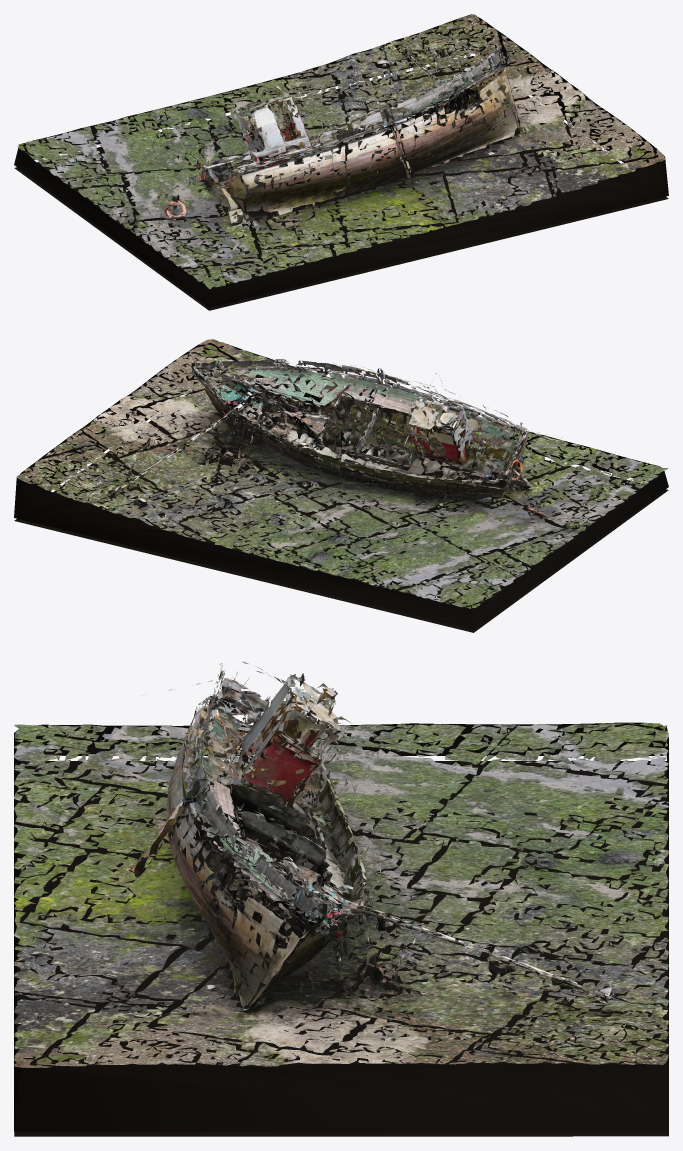
The model's file is boat_wreck.glb.
The picture shows the model from 3 angles, top to bottom: view 1: azimuth 30°, elevation 25°; view 2: azimuth 150°, elevation 25°; view 3: azimuth 270°, elevation 25°; orthographic projection. The views are drawn at different scales.
Visible parts, largest first — view 1: Object_4, Object_6, Object_5, Object_3, Object_7, Object_10, Object_11, Object_8, Object_9, Object_12; view 2: Object_4, Object_3, Object_6, Object_8, Object_10, Object_11, Object_5, Object_9, Object_7, Object_12; view 3: Object_4, Object_3, Object_6, Object_5, Object_10, Object_11, Object_8, Object_9, Object_7, Object_12.
Boxes of the visible parts, box(x1,y1,x2,y2) form: Object_4: box(14, 14, 668, 307); Object_6: box(18, 87, 446, 253); Object_5: box(332, 57, 611, 223); Object_3: box(14, 49, 668, 310); Object_7: box(223, 21, 506, 242); Object_10: box(130, 28, 542, 247); Object_11: box(140, 89, 337, 281); Object_8: box(222, 52, 653, 189); Object_9: box(344, 47, 510, 151); Object_12: box(270, 95, 312, 183); Object_4: box(14, 339, 668, 629); Object_3: box(14, 378, 668, 632); Object_6: box(295, 362, 604, 608); Object_8: box(72, 346, 459, 527); Object_10: box(55, 359, 586, 580); Object_11: box(264, 400, 648, 549); Object_5: box(136, 359, 437, 454); Object_9: box(82, 360, 332, 512); Object_7: box(28, 365, 530, 497); Object_12: box(385, 398, 437, 504); Object_4: box(14, 722, 668, 1131); Object_3: box(14, 761, 668, 1136); Object_6: box(19, 666, 667, 918); Object_5: box(16, 758, 357, 1052); Object_10: box(154, 680, 668, 1041); Object_11: box(16, 661, 544, 925); Object_8: box(25, 671, 543, 1065); Object_9: box(279, 854, 616, 1042); Object_7: box(86, 672, 664, 1063); Object_12: box(243, 704, 375, 860).
Size of the model in its own units: 16.63 by 4.55 by 12.25.
Materials: 1 (1 with a texture image).
